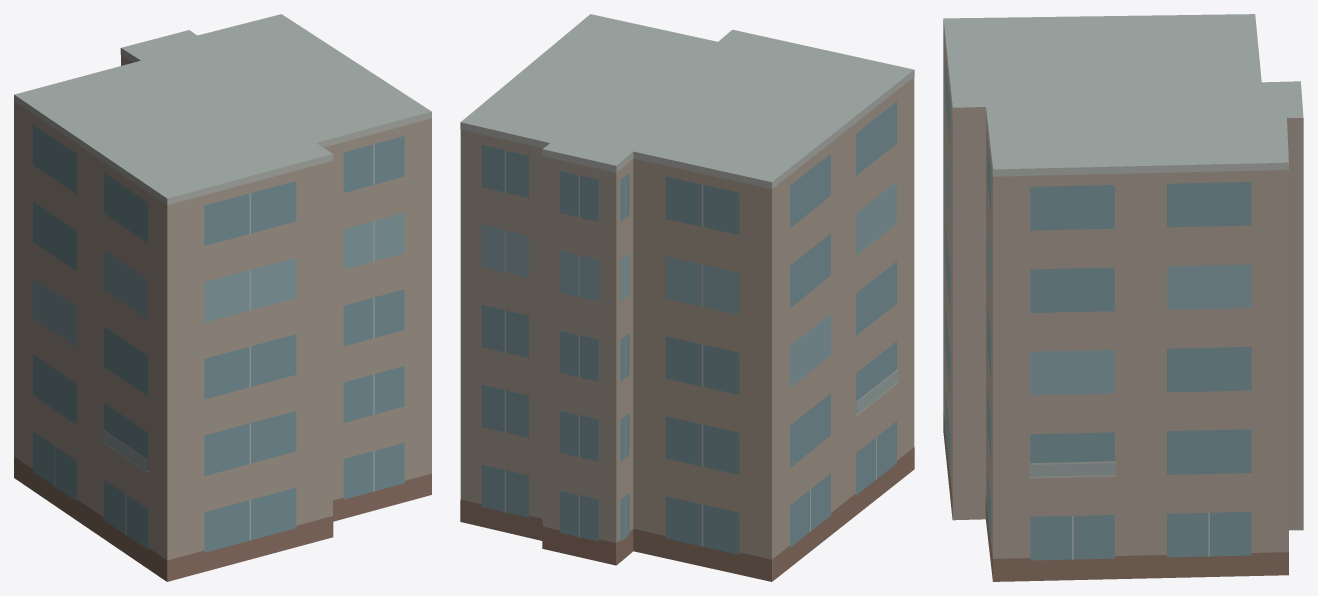
File: survey-upis-32627466.glb
3 views of the same model, side by side, from view 1: azimuth 30°, elevation 25°; view 2: azimuth 150°, elevation 25°; view 3: azimuth 270°, elevation 25° (orthographic). The views are drawn at different scales.
Parts seen in each view (by area): view 1: survey-upis-32627466.tmp; view 2: survey-upis-32627466.tmp; view 3: survey-upis-32627466.tmp.
Part boxes in pixels (bbox=[...]): survey-upis-32627466.tmp: bbox=[14, 14, 431, 581]; survey-upis-32627466.tmp: bbox=[460, 14, 914, 581]; survey-upis-32627466.tmp: bbox=[943, 14, 1303, 581].
Size of the model in its own units: 11.24 by 13.9 by 11.01.
